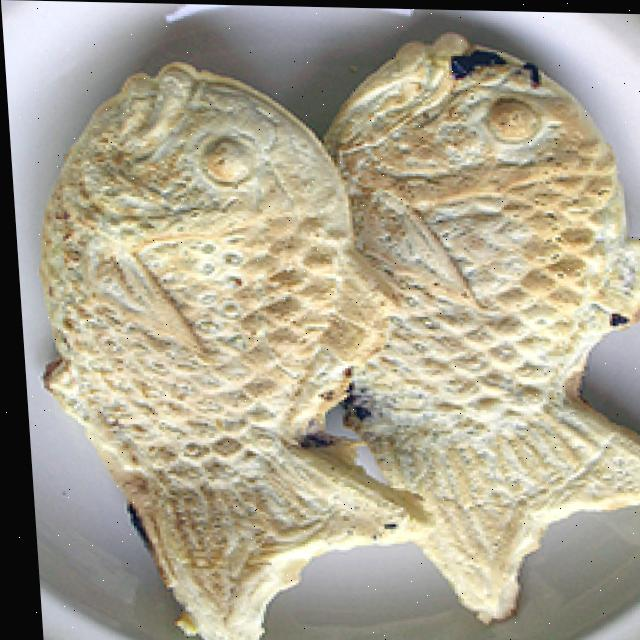熟制海鲜: (21, 20, 640, 640)
